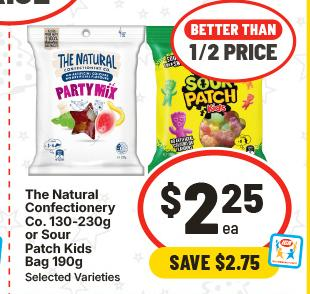description_block: (19, 186, 120, 270)
price_main: (146, 154, 286, 246)
product_image_block: (22, 20, 278, 178)
promo_text_block: (139, 244, 284, 283)
